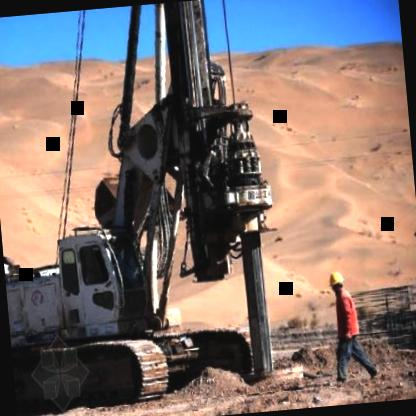helmet: (326, 268, 348, 298)
